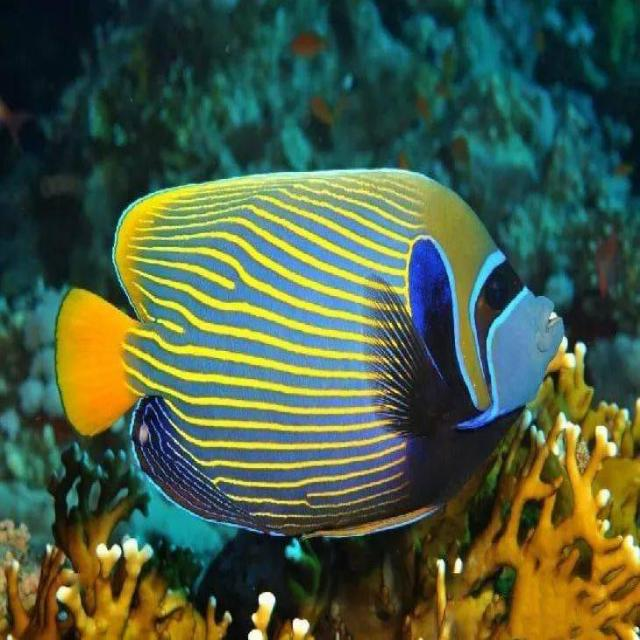AngelFish: (57, 167, 564, 554)
